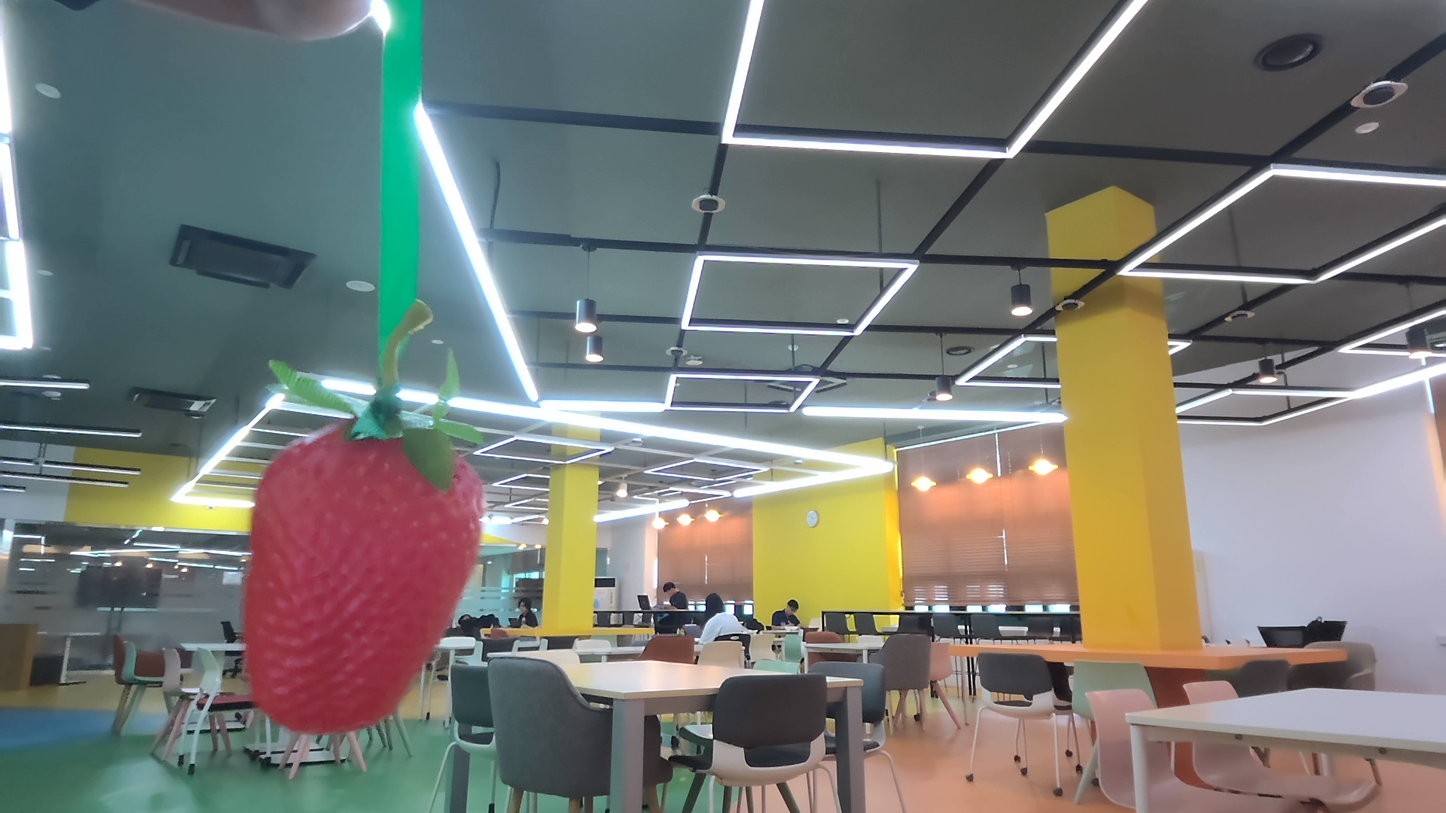strawberry: (237, 401, 486, 740)
